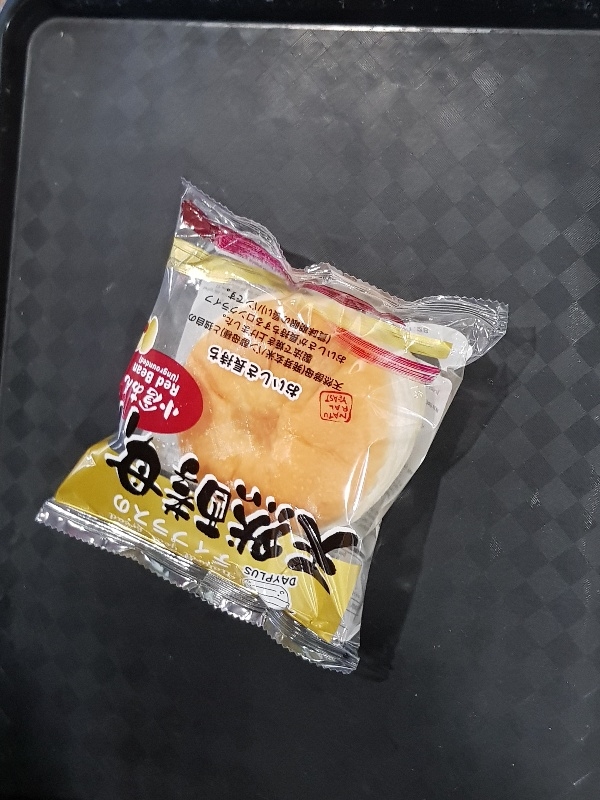Dayplus Red Bean: (34, 178, 509, 672)
